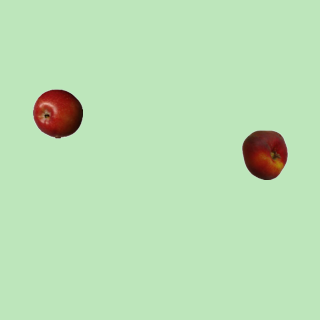Apple Braeburn: (32, 88, 82, 138)
Nectarine Flat: (239, 129, 289, 179)
